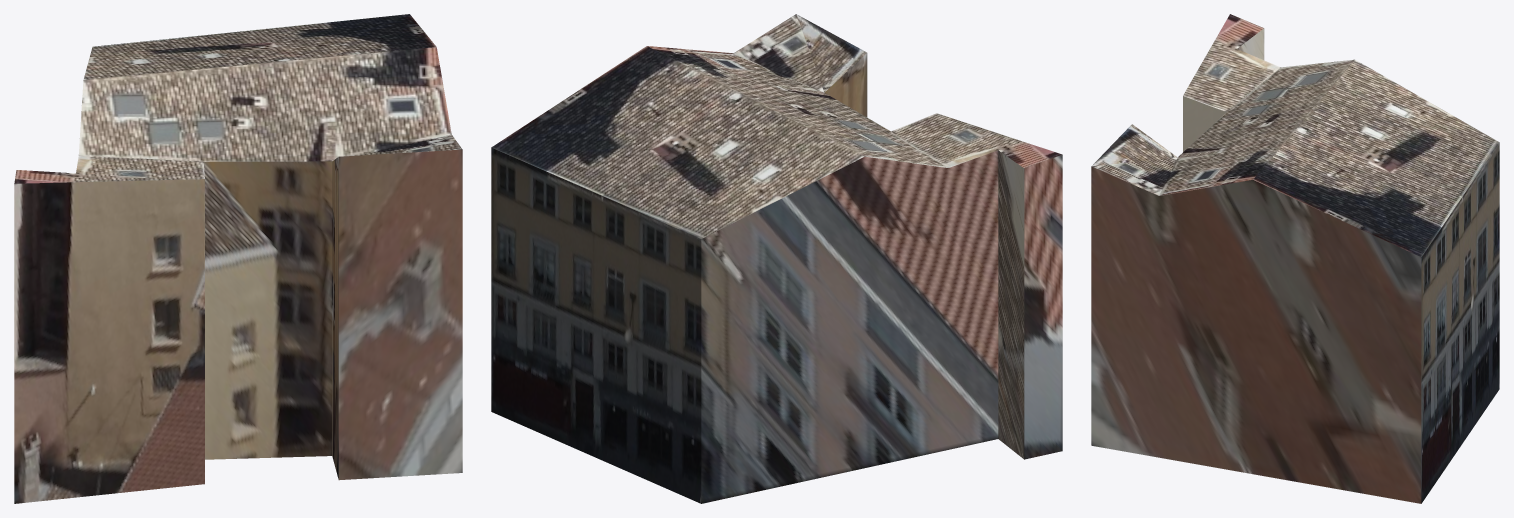
3 renders of one model, left to right at view 1: azimuth 30°, elevation 25°; view 2: azimuth 150°, elevation 25°; view 3: azimuth 270°, elevation 25°, orthographic. The views are drawn at different scales.
Visible parts, largest first — view 1: Z_UP; view 2: Z_UP; view 3: Z_UP.
Part boxes in pixels (x1=…): Z_UP: x1=14, y1=14, x2=462, y2=503; Z_UP: x1=491, y1=14, x2=1062, y2=503; Z_UP: x1=1091, y1=14, x2=1499, y2=503.
Size of the model in its own units: 28.01 by 18.02 by 22.64.
Materials: 2 (1 with a texture image).
